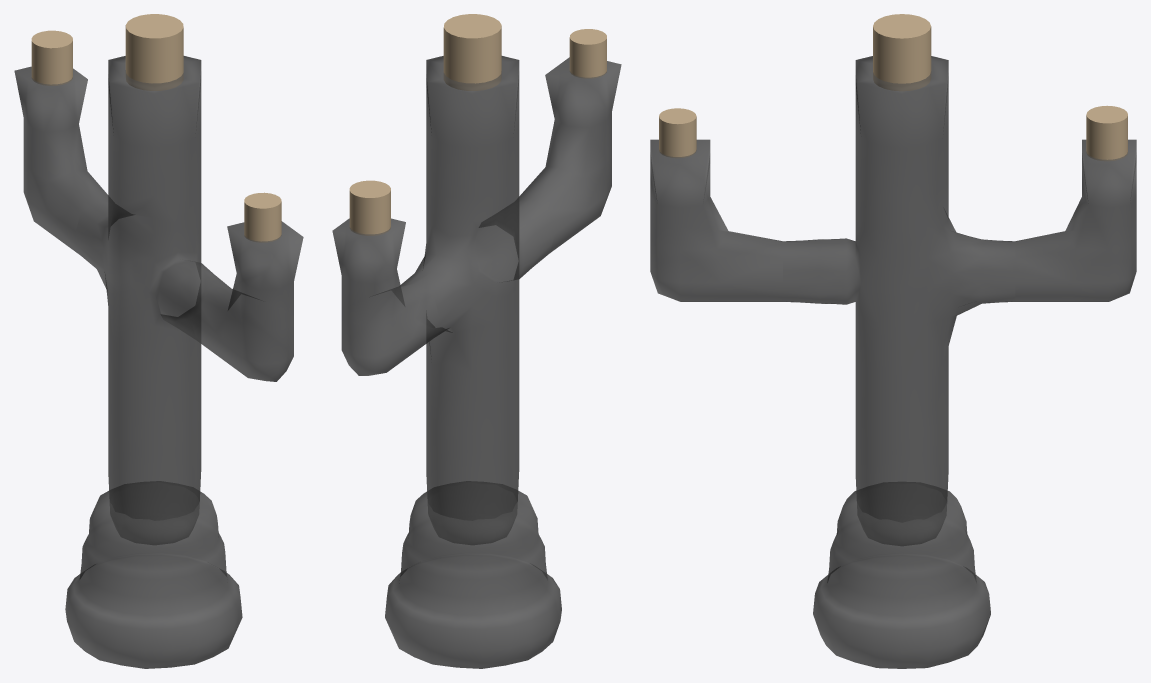
File: candle candle stick.fbx
3 renders of one model, left to right at view 1: azimuth 30°, elevation 25°; view 2: azimuth 150°, elevation 25°; view 3: azimuth 270°, elevation 25°, orthographic.
Parts seen in each view (by area): view 1: candle_stick, candle_stick_base, candle_1, candle_3, candle_2; view 2: candle_stick, candle_stick_base, candle_1, candle_3, candle_2; view 3: candle_stick, candle_stick_base, candle_1, candle_3, candle_2.
Part boxes in pixels (bbox=[...]): candle_stick: bbox=[14, 56, 303, 544]; candle_stick_base: bbox=[65, 482, 242, 668]; candle_1: bbox=[125, 14, 183, 90]; candle_3: bbox=[31, 30, 72, 85]; candle_2: bbox=[244, 192, 281, 242]; candle_stick: bbox=[332, 56, 621, 544]; candle_stick_base: bbox=[385, 482, 561, 668]; candle_1: bbox=[443, 14, 501, 90]; candle_3: bbox=[349, 180, 390, 235]; candle_2: bbox=[569, 29, 606, 78]; candle_stick: bbox=[650, 56, 1136, 545]; candle_stick_base: bbox=[813, 483, 990, 668]; candle_1: bbox=[873, 14, 931, 90]; candle_3: bbox=[1086, 105, 1127, 160]; candle_2: bbox=[659, 108, 696, 157].
Size of the model in its own units: 3.32 by 12.66 by 9.05.
